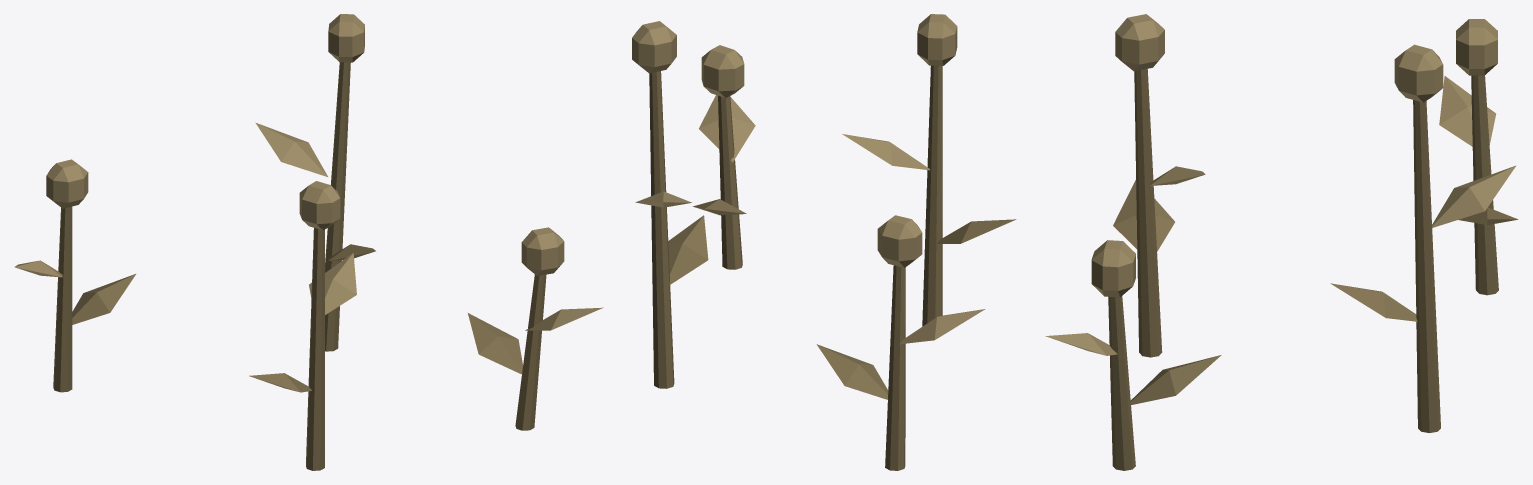
File: flowers_1_autumn.glb
3 renders of one model, left to right at view 1: azimuth 30°, elevation 25°; view 2: azimuth 150°, elevation 25°; view 3: azimuth 270°, elevation 25°, orthographic. The views are drawn at different scales.
Visible parts, largest first — view 1: flowers_1_autumn; view 2: flowers_1_autumn; view 3: flowers_1_autumn.
Boxes of the visible parts, x1,y1,x2,y2 form: flowers_1_autumn: (14, 14, 603, 470); flowers_1_autumn: (632, 14, 1016, 470); flowers_1_autumn: (1045, 14, 1518, 470).
Size of the model in its own units: 1.08 by 0.81 by 0.9008.
